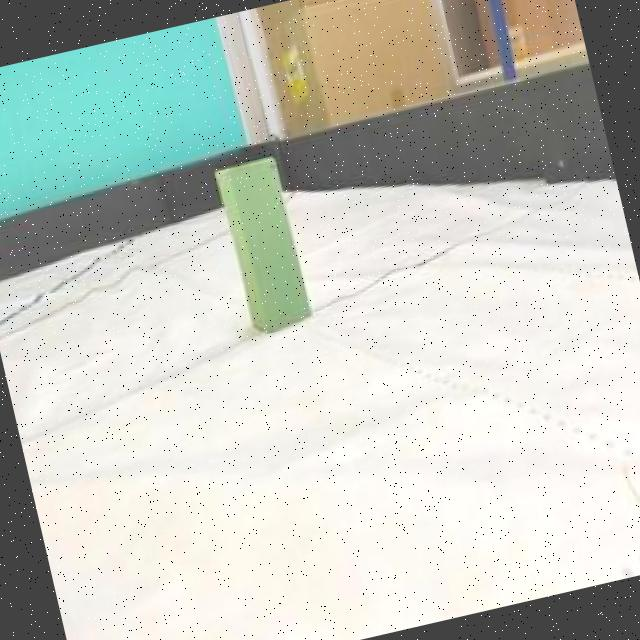greenbox: (212, 154, 310, 337)
